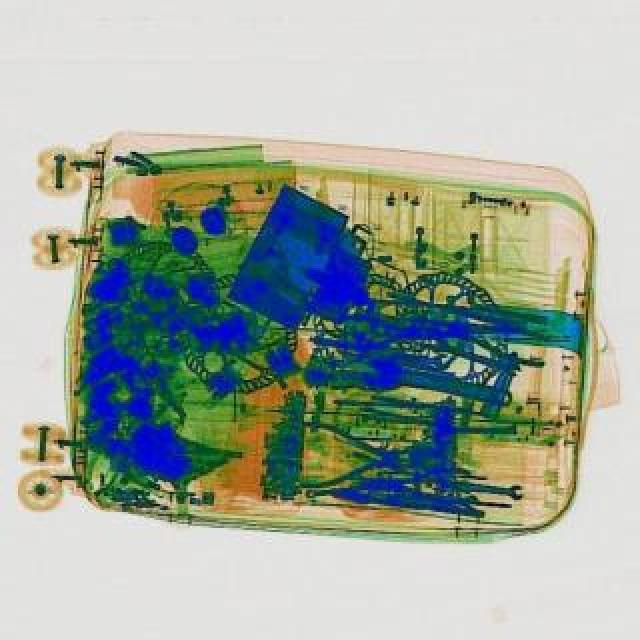scissors: (358, 350, 514, 412), (426, 474, 524, 498)
wrench: (292, 422, 408, 490)
